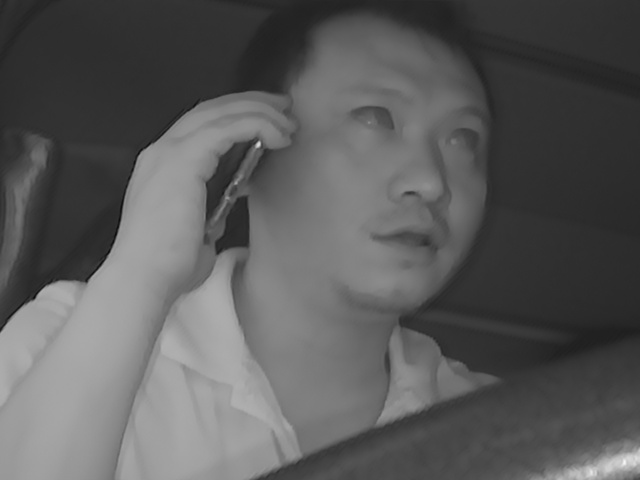hand: (120, 90, 263, 295)
